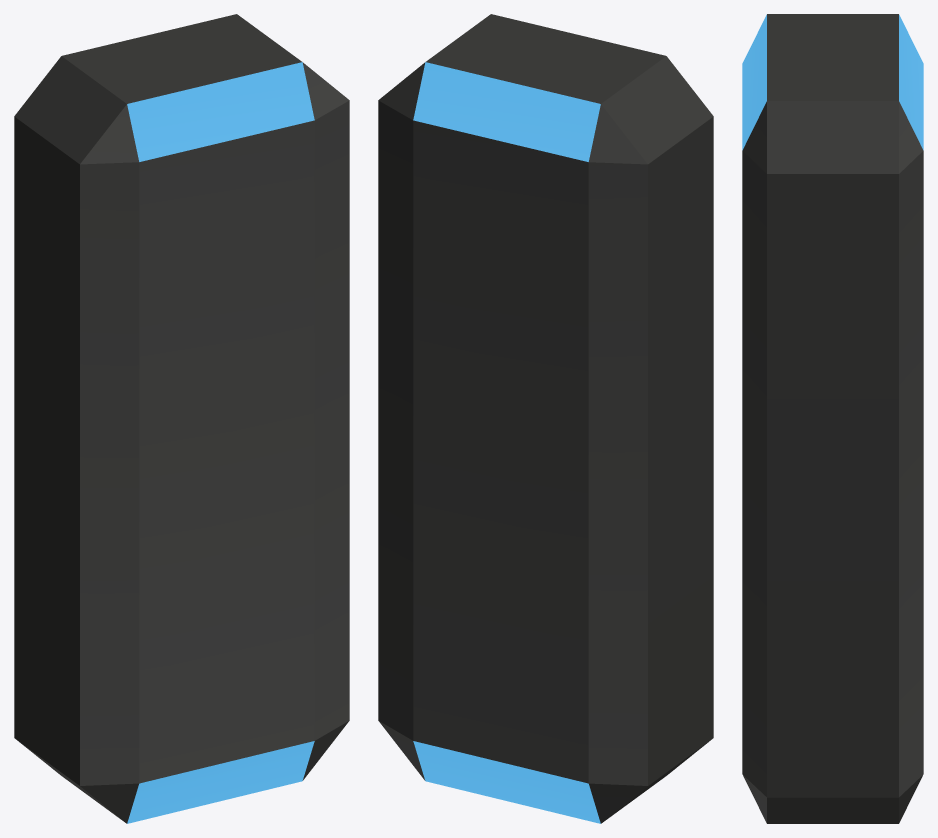
File: Mag_SMG_mesh.fbx
3 renders of one model, left to right at view 1: azimuth 30°, elevation 25°; view 2: azimuth 150°, elevation 25°; view 3: azimuth 270°, elevation 25°, orthographic.
Parts seen in each view (by area): view 1: Mag_SMG_mesh; view 2: Mag_SMG_mesh; view 3: Mag_SMG_mesh.
Part boxes in pixels (x1,y1,x2,y2): Mag_SMG_mesh: (14, 14, 349, 823); Mag_SMG_mesh: (378, 14, 713, 823); Mag_SMG_mesh: (742, 14, 923, 823).
Bounding box in the file's own units: 4.5 × 11.47 × 2.6.
Materials: 2 (1 with a texture image).
